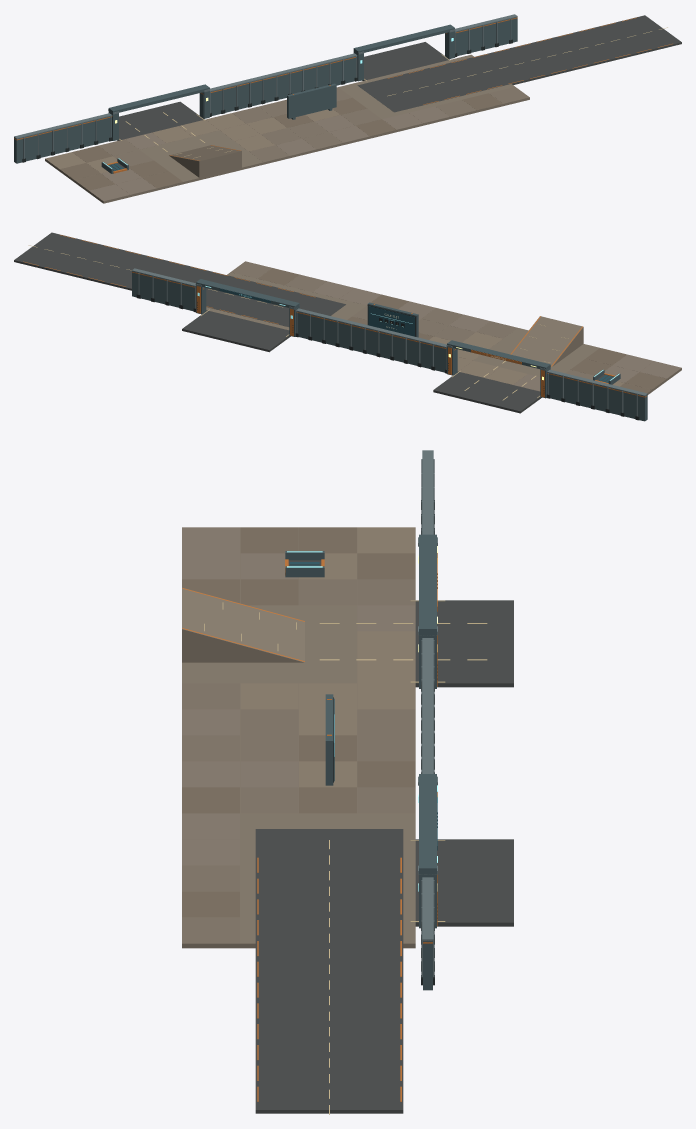
File: wsc-scene-007-forecourt.glb
3 views of the same model, one above another, from view 1: azimuth 30°, elevation 25°; view 2: azimuth 150°, elevation 25°; view 3: azimuth 270°, elevation 25° (orthographic). The views are drawn at different scales.
Visible parts, largest first — view 1: Titan shortcut start, SE dividing wall.003, Forecourt datum, Forecourt apron panels.003, Portal approach paver, Forecourt apron panels.001, Forecourt apron panels, Forecourt apron panels.002, SE dividing wall.002, C1 grade and edge strips.002, Run board case.002, C1 north portal.004 (+4 smaller); view 2: Titan shortcut start, SE dividing wall.003, Portal approach paver, Forecourt datum, Forecourt apron panels.001, Forecourt apron panels.003, C1 grade and edge strips.002, SE dividing wall.002, Forecourt apron panels, Forecourt apron panels.002, C1 north portal.004, Run board case.001 (+6 smaller); view 3: Titan shortcut start, Forecourt apron panels.003, Forecourt datum, Forecourt apron panels, Portal approach paver, Forecourt apron panels.001, Forecourt apron panels.002, C1 grade and edge strips.002, SE dividing wall.002, C1 north portal.004, Titan north portal.006.
Part boxes in pixels (box(x1,y1,x2,y2)): Titan shortcut start: box(357, 15, 681, 112); SE dividing wall.003: box(14, 17, 517, 163); Forecourt datum: box(45, 54, 529, 203); Forecourt apron panels.003: box(99, 87, 529, 166); Portal approach paver: box(117, 42, 449, 140); Forecourt apron panels.001: box(89, 106, 449, 201); Forecourt apron panels: box(60, 93, 502, 190); Forecourt apron panels.002: box(45, 109, 339, 173); SE dividing wall.002: box(14, 14, 517, 158); C1 grade and edge strips.002: box(169, 145, 241, 178); Run board case.002: box(287, 83, 336, 118); C1 north portal.004: box(108, 84, 209, 140); Titan shortcut start: box(14, 232, 345, 326); SE dividing wall.003: box(132, 271, 647, 421); Portal approach paver: box(182, 310, 541, 413); Forecourt datum: box(206, 268, 681, 394); Forecourt apron panels.001: box(312, 281, 681, 391); Forecourt apron panels.003: box(231, 261, 593, 379); C1 grade and edge strips.002: box(510, 316, 583, 366); SE dividing wall.002: box(131, 268, 647, 416); Forecourt apron panels: box(258, 268, 666, 393); Forecourt apron panels.002: box(429, 332, 623, 386); C1 north portal.004: box(447, 340, 550, 398); Run board case.001: box(368, 306, 414, 336); Titan shortcut start: box(255, 829, 403, 1113); Forecourt apron panels.003: box(182, 579, 415, 943); Forecourt datum: box(182, 527, 415, 948); Forecourt apron panels: box(182, 527, 415, 917); Portal approach paver: box(415, 600, 513, 926); Forecourt apron panels.001: box(182, 527, 415, 865); Forecourt apron panels.002: box(240, 527, 415, 787); C1 grade and edge strips.002: box(182, 587, 304, 662); SE dividing wall.002: box(421, 450, 434, 976); C1 north portal.004: box(419, 534, 436, 688); Titan north portal.006: box(419, 774, 436, 928).
Bounding box in the file's own units: 118 × 5.79 × 27.
